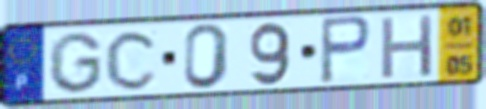0: (181, 22, 232, 91)
9: (247, 19, 293, 87)
C: (103, 28, 162, 93)
G: (46, 30, 104, 96)
H: (378, 12, 437, 82)
P: (317, 13, 374, 86)
